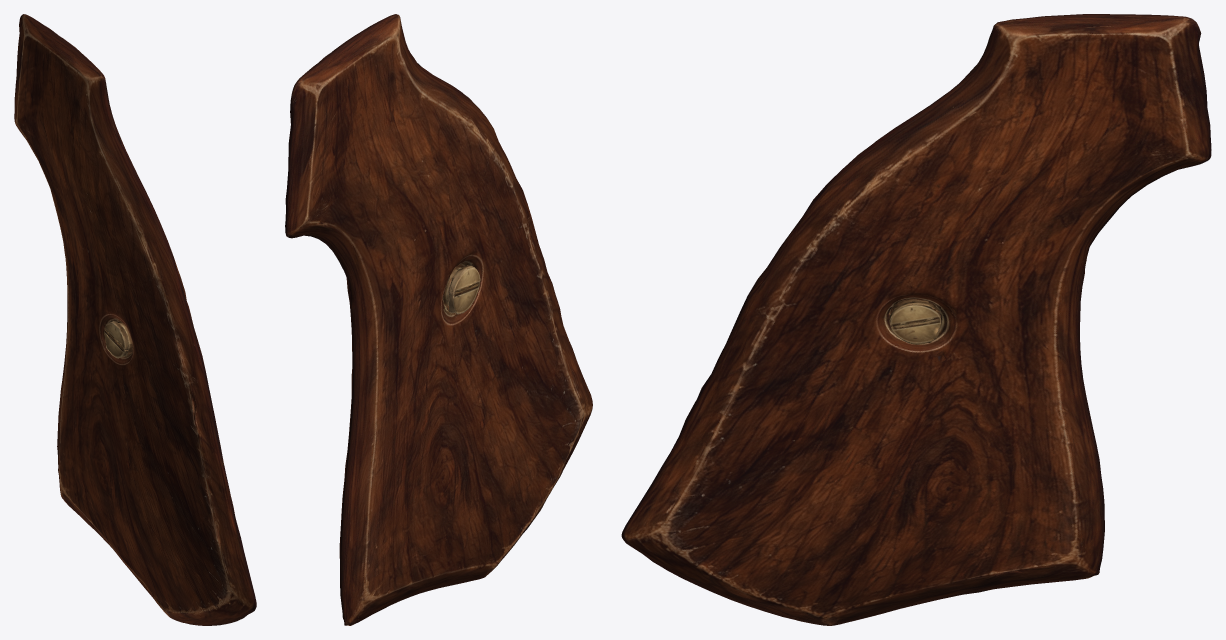
Rendered from rv_grip_l.glb.
3 renders of one model, left to right at view 1: azimuth 30°, elevation 25°; view 2: azimuth 150°, elevation 25°; view 3: azimuth 270°, elevation 25°, orthographic. The views are drawn at different scales.
Visible parts, largest first — view 1: Mesh_0; view 2: Mesh_0; view 3: Mesh_0.
Part boxes in pixels (x1,y1,x2,y2): Mesh_0: [14, 14, 256, 625]; Mesh_0: [285, 14, 592, 625]; Mesh_0: [621, 14, 1211, 625].
Bounding box in the file's own units: 0.00628 × 0.0679 × 0.0593.
1 material, 1 textured.
